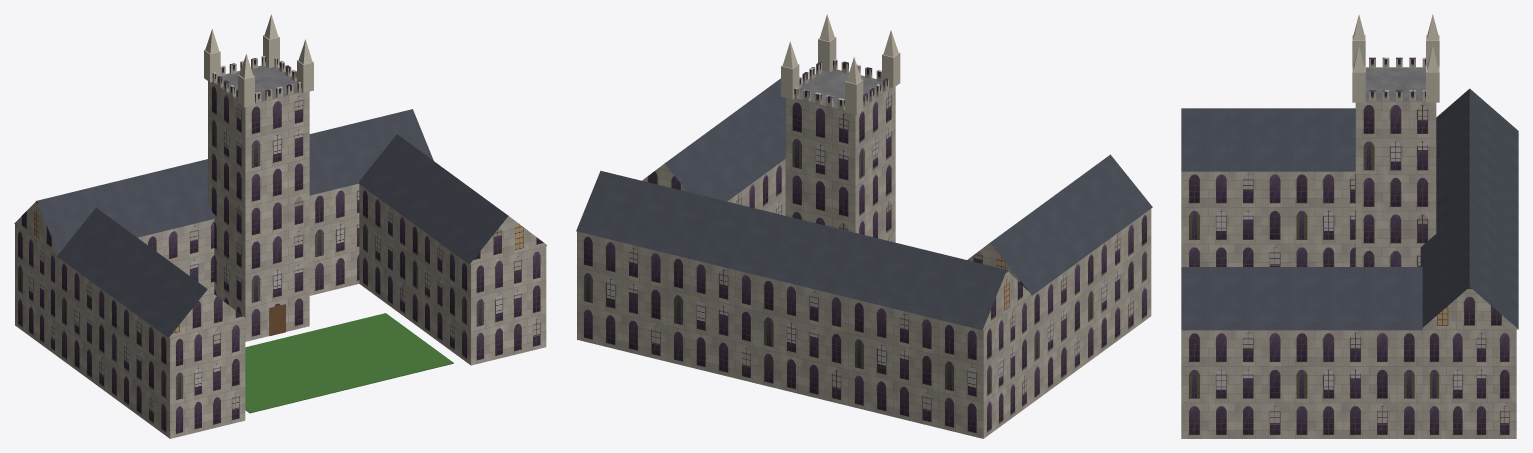
File: 098_gothic_university.glb
3 views of the same model, side by side, from view 1: azimuth 30°, elevation 25°; view 2: azimuth 150°, elevation 25°; view 3: azimuth 270°, elevation 25° (orthographic). The views are drawn at different scales.
Visible parts, largest first — view 1: 098_gothic_university; view 2: 098_gothic_university; view 3: 098_gothic_university.
Part boxes in pixels (<box>): 098_gothic_university: <box>14,14,547,438</box>; 098_gothic_university: <box>576,14,1152,438</box>; 098_gothic_university: <box>1181,14,1518,438</box>.
Bounding box in the file's own units: 70.6 × 51 × 50.3.
Materials: 6 (4 with a texture image).
